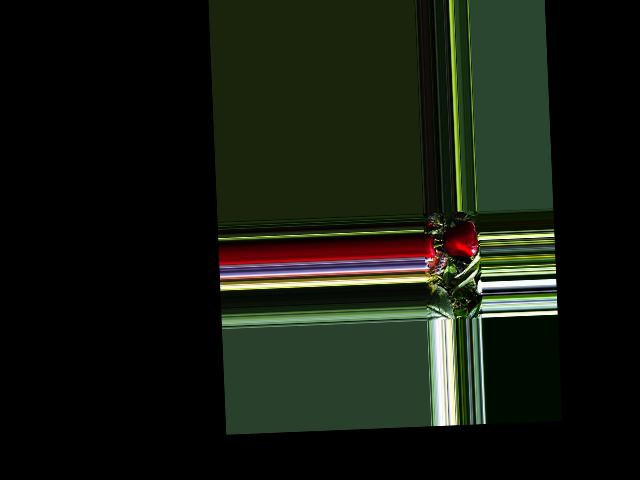bell_pepper: (422, 232, 438, 260)
